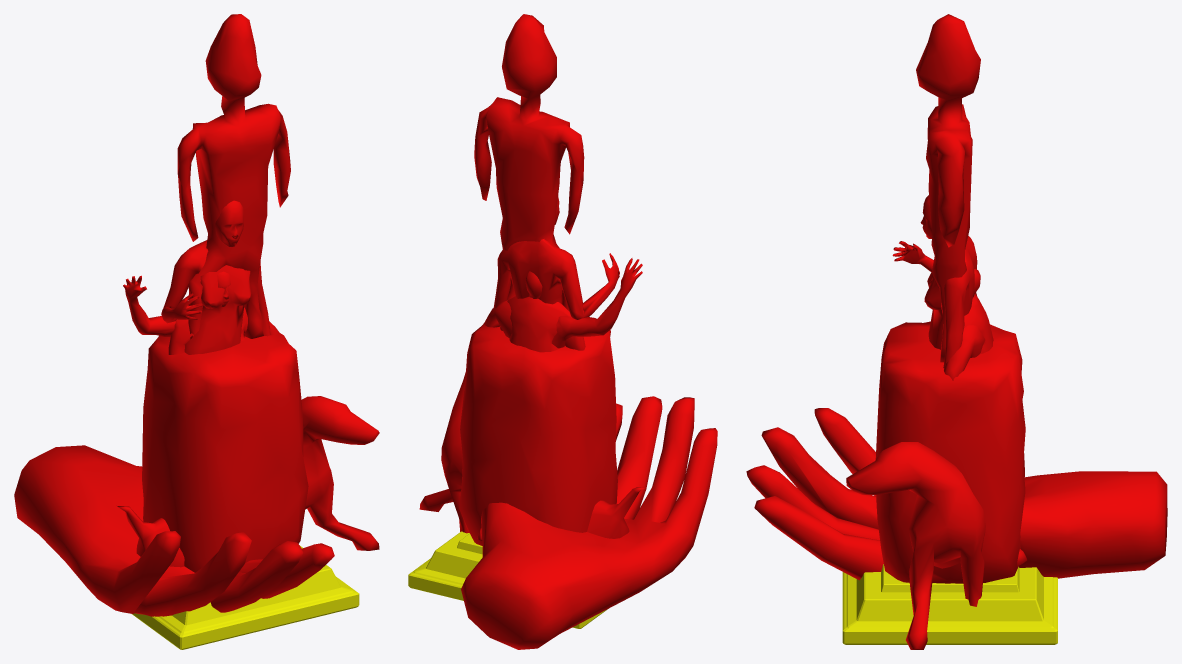
File: statues_grp.fbx
3 views of the same model, side by side, from view 1: azimuth 30°, elevation 25°; view 2: azimuth 150°, elevation 25°; view 3: azimuth 270°, elevation 25° (orthographic). The views are drawn at different scales.
Parts seen in each view (by area): view 1: stone_statue, hand_statue, waving_statue, towel_statue, dog_statue, fertility_statue; view 2: stone_statue, hand_statue, waving_statue, towel_statue, dog_statue, fertility_statue; view 3: stone_statue, hand_statue, waving_statue, dog_statue, towel_statue, fertility_statue.
Part boxes in pixels (x1,y1,x2,y2): stone_statue: (142, 14, 308, 572); hand_statue: (14, 445, 334, 616); waving_statue: (123, 275, 359, 649); towel_statue: (161, 200, 270, 354); dog_statue: (117, 396, 379, 567); fertility_statue: (168, 271, 247, 354); stone_statue: (459, 14, 617, 545); hand_statue: (461, 396, 717, 649); waving_statue: (408, 258, 642, 628); towel_statue: (493, 196, 619, 347); dog_statue: (419, 372, 644, 538); fertility_statue: (457, 296, 585, 554); stone_statue: (875, 14, 1025, 583); hand_statue: (746, 408, 1167, 580); waving_statue: (842, 269, 1057, 644); dog_statue: (846, 442, 985, 649); towel_statue: (892, 195, 977, 368); fertility_statue: (881, 273, 1019, 592).
Bounding box in the file's own units: 29.7 × 59.63 × 38.05.
